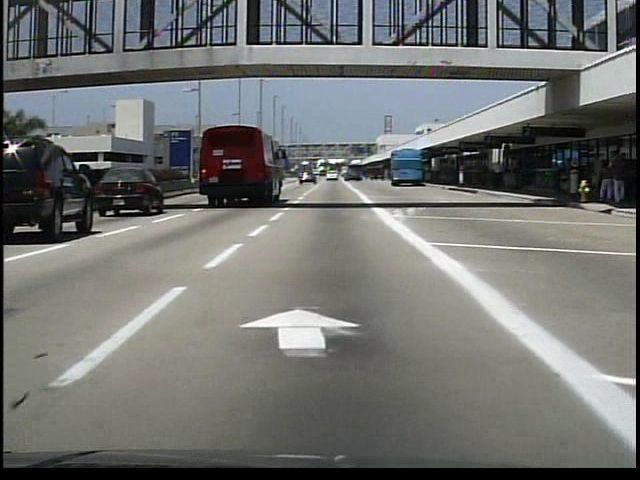person: (494, 162, 507, 192)
